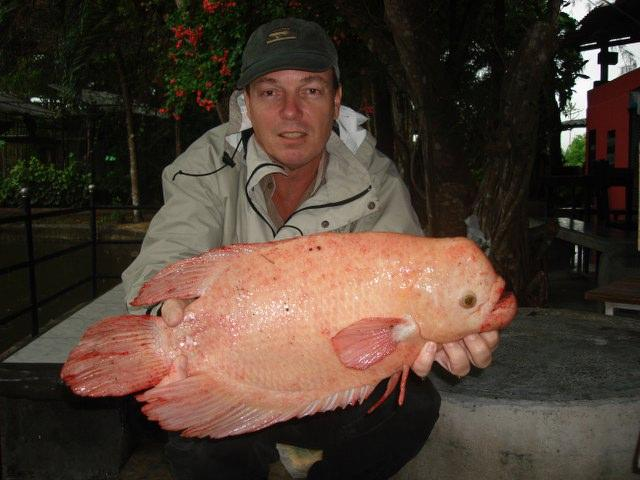Mulut: (456, 262, 530, 344)
Sirip Dada: (321, 302, 424, 374)
Sirip Ekor: (48, 304, 188, 414)
Sirip Punggung: (120, 222, 362, 328)
